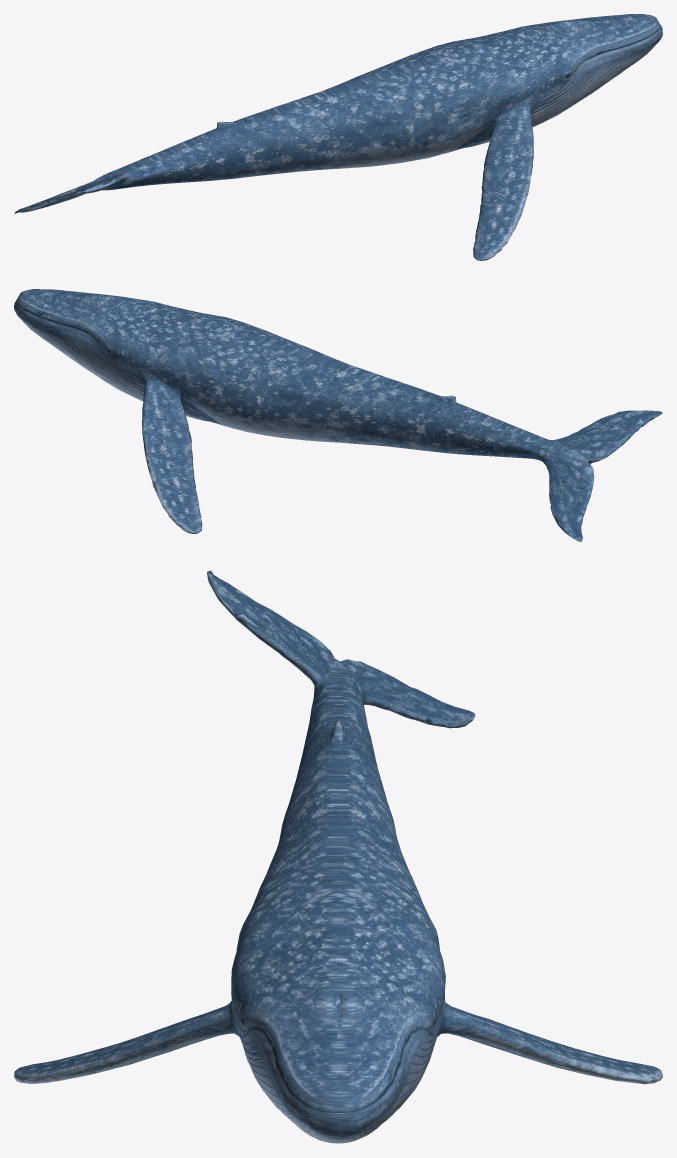
File: bluewhale.glb
3 views of the same model, one above another, from view 1: azimuth 30°, elevation 25°; view 2: azimuth 150°, elevation 25°; view 3: azimuth 270°, elevation 25° (orthographic). The views are drawn at different scales.
Parts seen in each view (by area): view 1: bluewhale; view 2: bluewhale; view 3: bluewhale.
Boxes of the visible parts, x1=… form: bluewhale: x1=14, y1=14, x2=662, y2=260; bluewhale: x1=14, y1=289, x2=662, y2=541; bluewhale: x1=14, y1=570, x2=662, y2=1143.
Size of the model in its own units: 2 by 0.401 by 1.03.
1 material, 1 textured.
